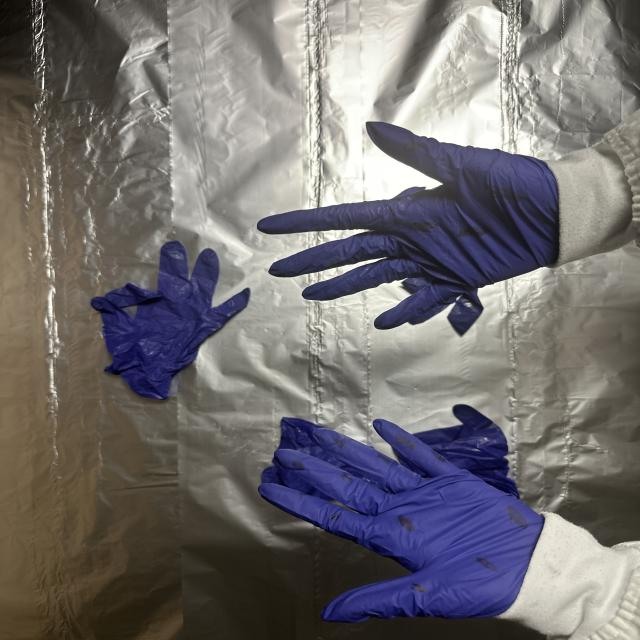gloves_contaminated: (258, 123, 559, 329), (259, 419, 544, 622)
